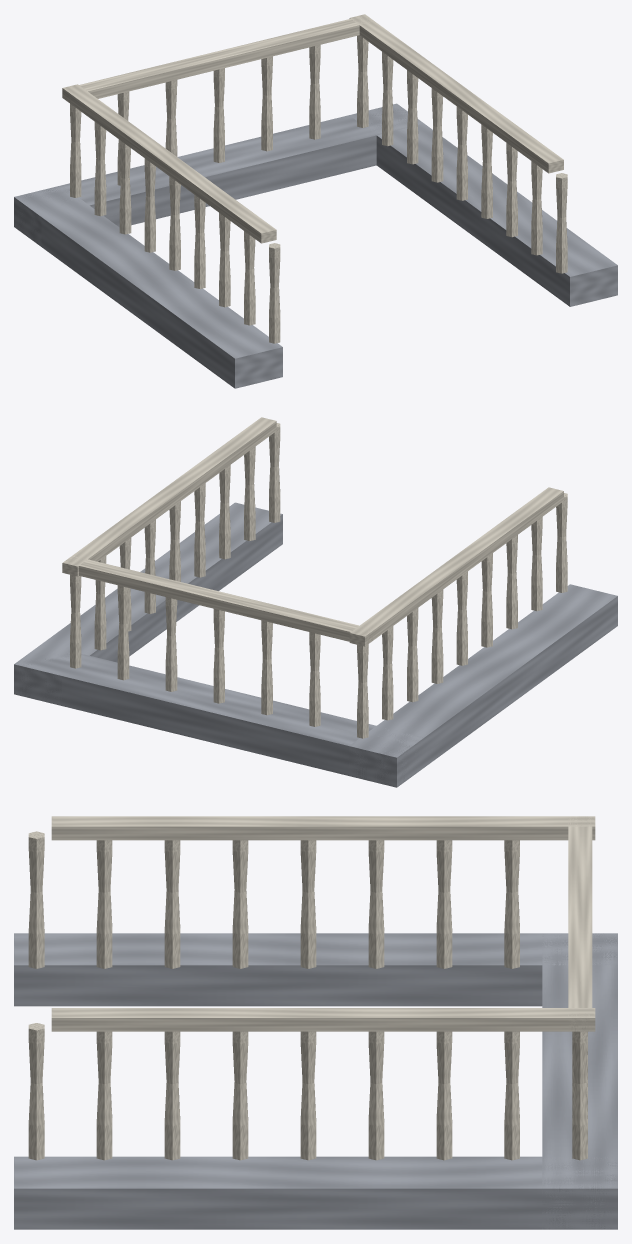
The picture shows the model from 3 angles, top to bottom: view 1: azimuth 30°, elevation 25°; view 2: azimuth 150°, elevation 25°; view 3: azimuth 270°, elevation 25°; orthographic projection. The views are drawn at different scales.
Parts seen in each view (by area): view 1: crypt-stair-head; view 2: crypt-stair-head; view 3: crypt-stair-head.
Boxes of the visible parts, x1,y1,x2,y2 form: crypt-stair-head: (14, 14, 617, 388); crypt-stair-head: (14, 417, 617, 787); crypt-stair-head: (14, 816, 617, 1229).
Size of the model in its own units: 4 by 1.35 by 4.
2 materials, 2 textured.
